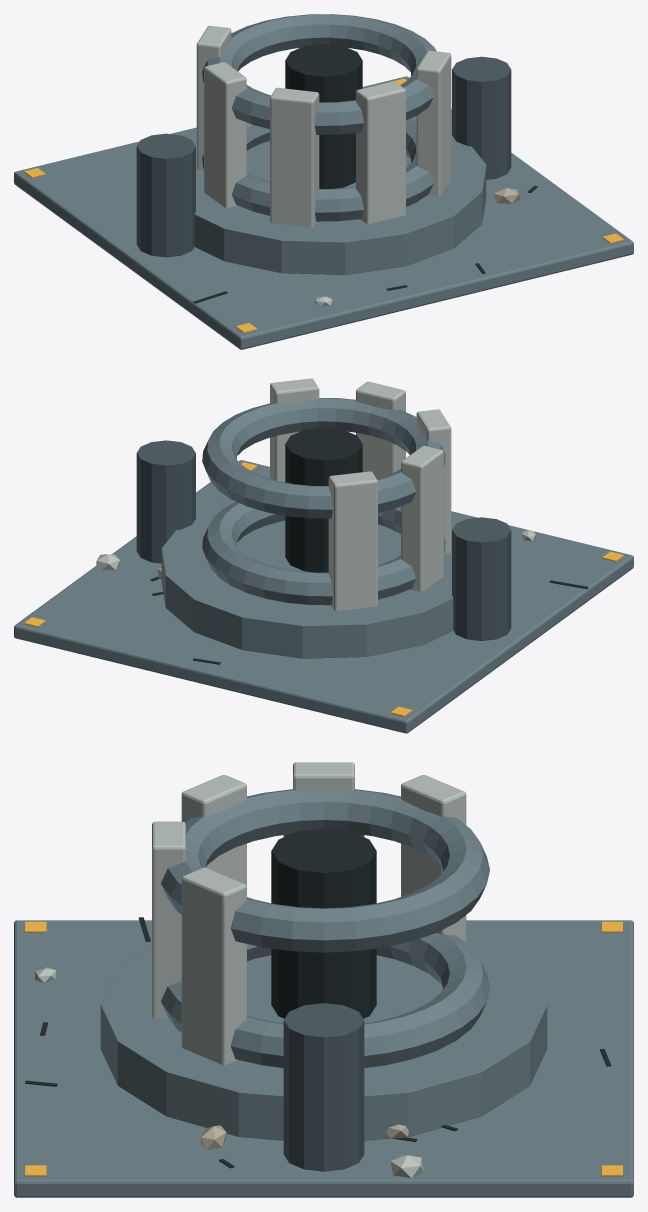
Rendered from utility_reactor_d2.glb.
3 views of the same model, one above another, from view 1: azimuth 30°, elevation 25°; view 2: azimuth 150°, elevation 25°; view 3: azimuth 270°, elevation 25° (orthographic). The views are drawn at different scales.
Parts seen in each view (by area): view 1: Foundation.018, Reactor plinth.002, Field containment toroid.005, Coolant reservoir.004, Containment fin.018, Containment fin.019, Coolant reservoir.005, Central field column.002, Containment fin.017, Field containment toroid.004, Containment fin.020, Containment fin.016; view 2: Foundation.018, Reactor plinth.002, Field containment toroid.005, Field containment toroid.004, Coolant reservoir.004, Containment fin.016, Central field column.002, Coolant reservoir.005, Containment fin.017, Containment fin.019, Containment fin.020, Containment fin.018; view 3: Foundation.018, Reactor plinth.002, Field containment toroid.005, Central field column.002, Coolant reservoir.005, Field containment toroid.004, Containment fin.020, Containment fin.019, Containment fin.016, Containment fin.018, Containment fin.017, Bounded fractured debris.108.
Part boxes in pixels (x1,y1,x2,y2): Foundation.018: (14, 76, 633, 349); Reactor plinth.002: (187, 117, 486, 274); Field containment toroid.005: (202, 14, 436, 134); Coolant reservoir.004: (136, 133, 195, 257); Containment fin.018: (270, 87, 319, 227); Containment fin.019: (356, 81, 405, 224); Coolant reservoir.005: (452, 56, 511, 179); Central field column.002: (285, 44, 362, 188); Containment fin.017: (204, 62, 246, 208); Field containment toroid.004: (202, 118, 433, 221); Containment fin.020: (416, 50, 451, 196); Containment fin.016: (196, 25, 231, 169); Foundation.018: (14, 460, 633, 733); Reactor plinth.002: (161, 500, 460, 658); Field containment toroid.005: (202, 398, 445, 518); Field containment toroid.004: (202, 501, 445, 605); Coolant reservoir.004: (452, 517, 511, 640); Containment fin.016: (328, 471, 377, 610); Central field column.002: (285, 427, 362, 572); Coolant reservoir.005: (136, 440, 195, 563); Containment fin.017: (401, 445, 443, 591); Containment fin.019: (356, 381, 405, 478); Containment fin.020: (270, 378, 319, 482); Containment fin.018: (416, 409, 451, 553); Foundation.018: (14, 920, 633, 1197); Reactor plinth.002: (100, 934, 547, 1140); Field containment toroid.005: (161, 789, 489, 952); Central field column.002: (271, 828, 376, 1018); Coolant reservoir.005: (283, 1003, 364, 1171); Field containment toroid.004: (161, 933, 489, 1067); Containment fin.020: (181, 867, 246, 1065); Containment fin.019: (152, 821, 185, 1018); Containment fin.016: (401, 775, 466, 942); Containment fin.018: (181, 775, 246, 885); Containment fin.017: (293, 762, 354, 792); Bounded fractured debris.108: (390, 1154, 423, 1178).
Bounding box in the file's own units: 10 × 4.17 × 10.
